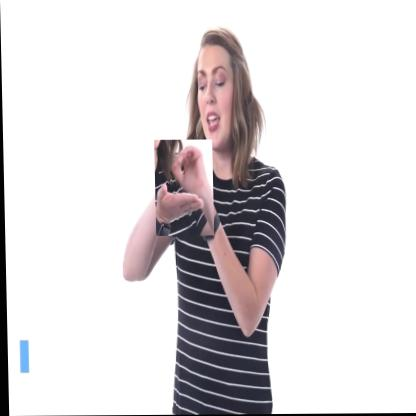ExcuseMe: (154, 140, 214, 236)
